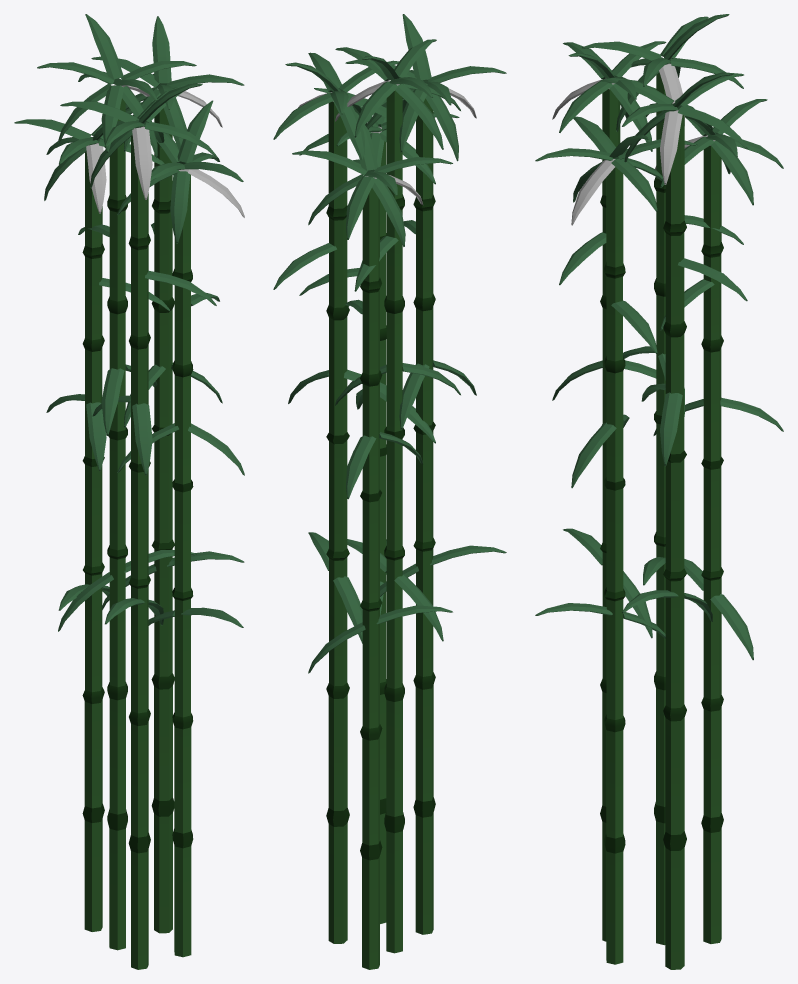
File: conj_bambus.fbx
3 views of the same model, side by side, from view 1: azimuth 30°, elevation 25°; view 2: azimuth 150°, elevation 25°; view 3: azimuth 270°, elevation 25° (orthographic).
Parts seen in each view (by area): view 1: bambu6; view 2: bambu6; view 3: bambu6.
Part boxes in pixels (box(x1,y1,x2,y2)): bambu6: box(14, 14, 244, 969); bambu6: box(273, 14, 506, 969); bambu6: box(535, 14, 783, 969).
Size of the model in its own units: 7.82 by 40.3 by 9.8.
